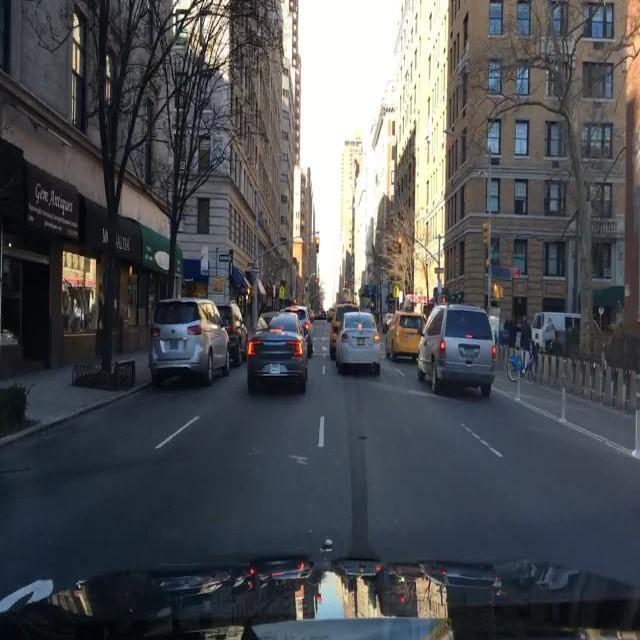normal: (415, 303, 496, 398), (151, 298, 234, 387), (245, 322, 310, 392), (329, 310, 383, 375), (209, 302, 246, 368), (386, 315, 426, 363)
